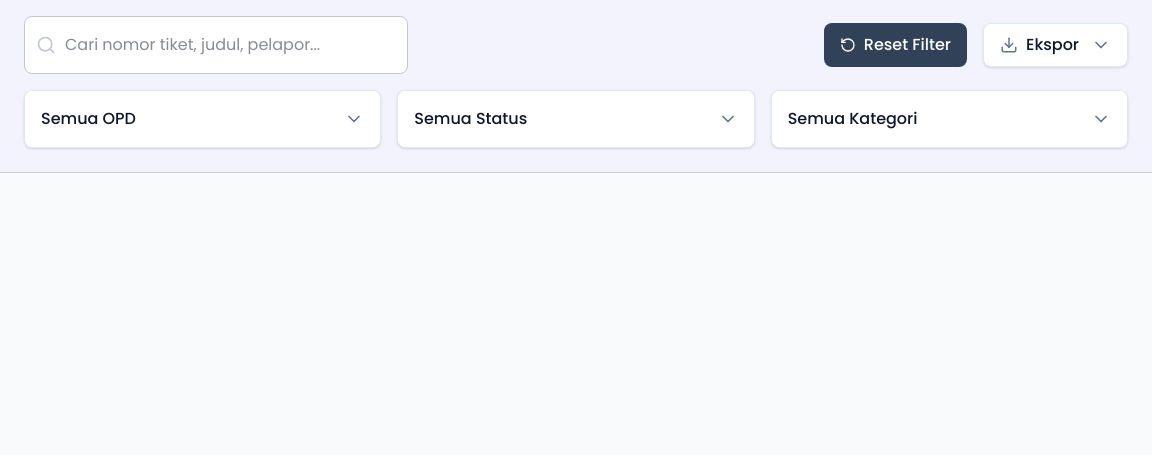
Test: ComplaintFilterBar — pencarian OPD › dropdown OPD punya medan cari yang menyaring daftarnya
Click the button "Semua OPD": {"x": 88, "y": 118} [24,90,381,148]
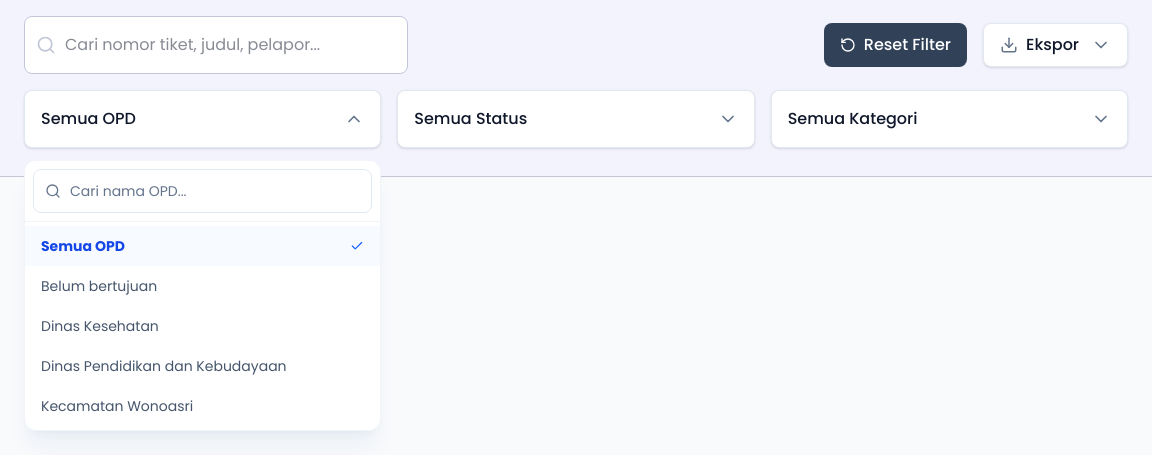
In the field named "Cari OPD": {"x": 203, "y": 191} [33,169,372,213], type "kesehatan"
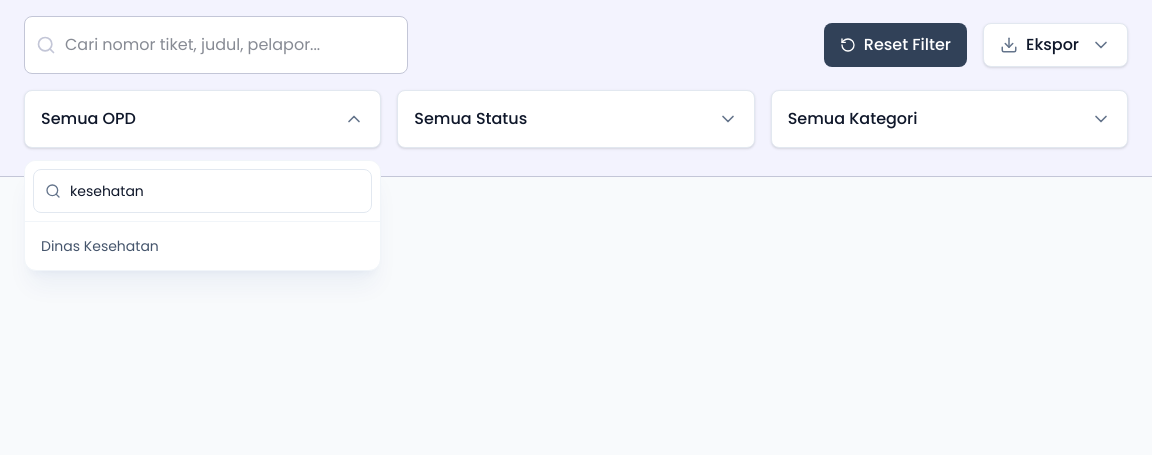
Expected: the button "Dinas Kesehatan" is shown, [25,226,380,266]
Expected: the button "Dinas Pendidikan dan Kebudayaan" is gone
Expected: the button "Belum bertujuan" is gone
